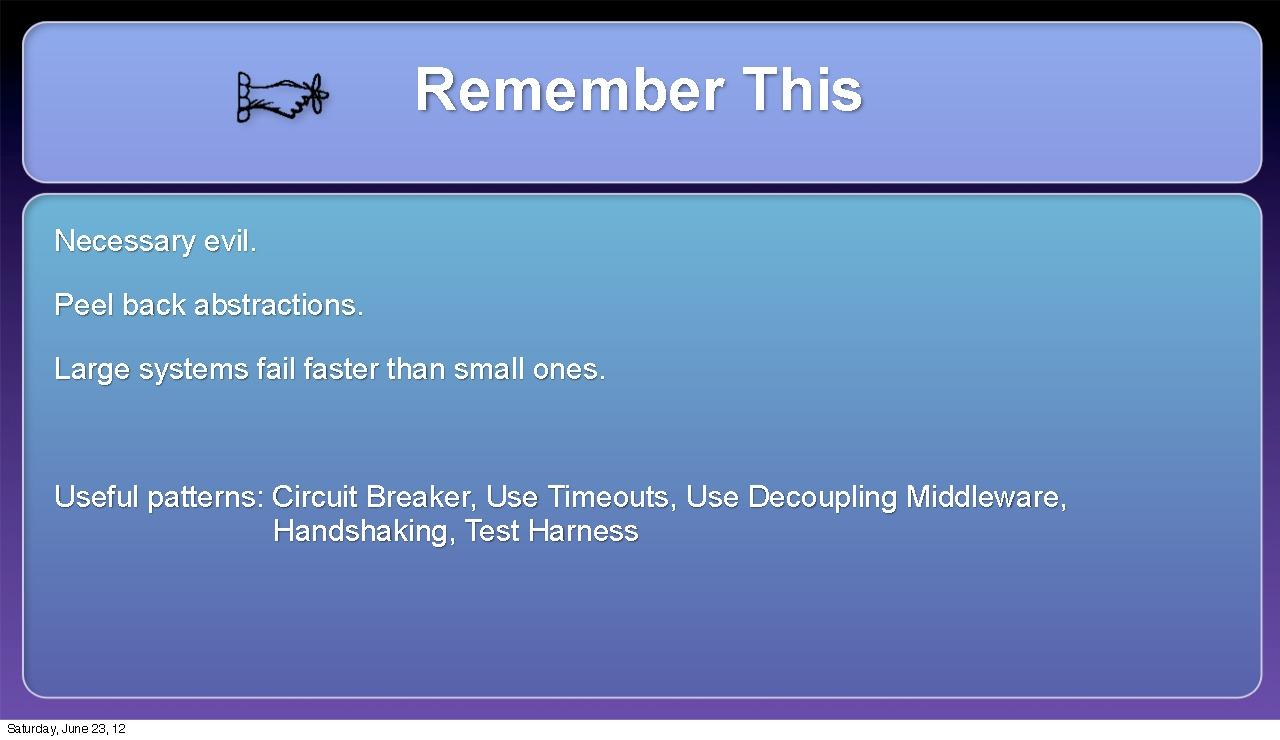paragraph: (38, 203, 1148, 615)
title: (376, 36, 902, 159)
